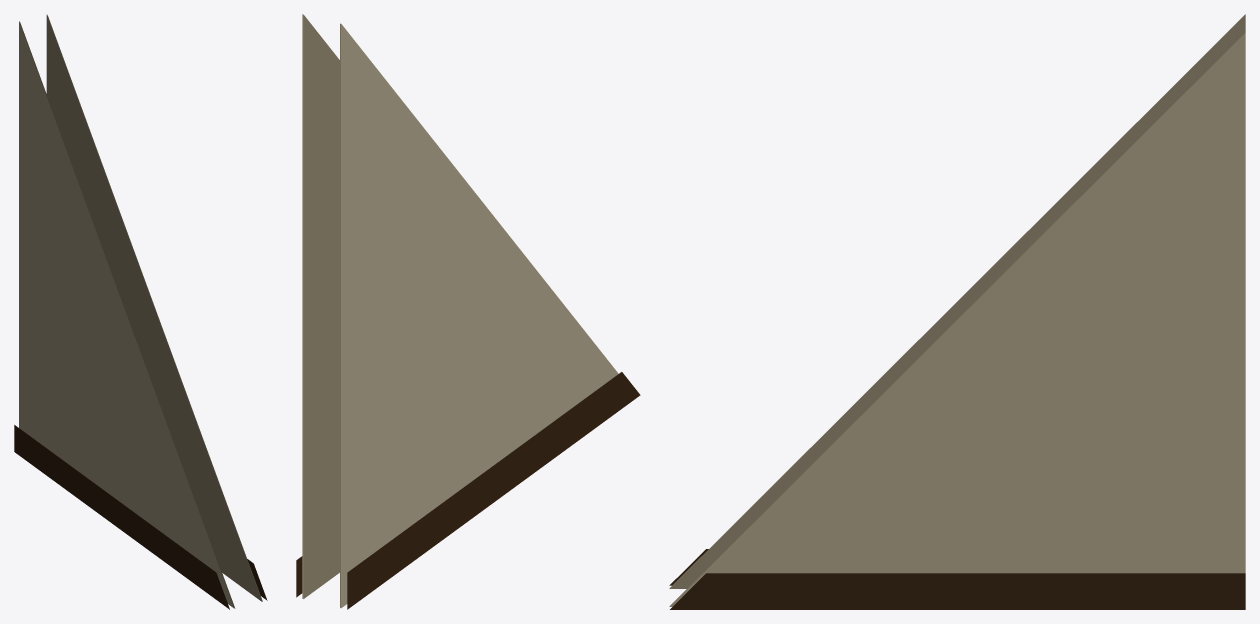
File: wall-halftimber-gable-r-steep.glb
3 renders of one model, left to right at view 1: azimuth 30°, elevation 25°; view 2: azimuth 150°, elevation 25°; view 3: azimuth 270°, elevation 25°, orthographic. The views are drawn at different scales.
Visible parts, largest first — view 1: wall-halftimber-gable-r-steep; view 2: wall-halftimber-gable-r-steep; view 3: wall-halftimber-gable-r-steep.
Part boxes in pixels (left/top/right/bottom): wall-halftimber-gable-r-steep: left=14, top=14, right=267, bottom=609; wall-halftimber-gable-r-steep: left=296, top=14, right=640, bottom=609; wall-halftimber-gable-r-steep: left=669, top=14, right=1245, bottom=609.
Size of the model in its own units: 0.1 by 1.1 by 1.
